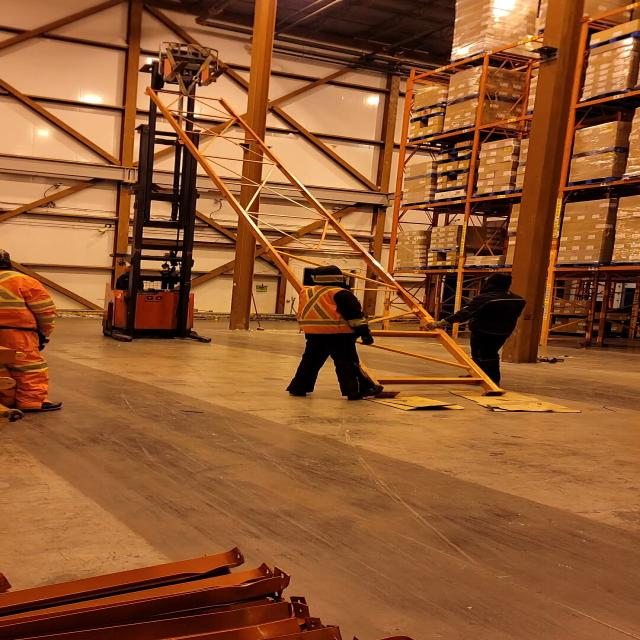forklift: (100, 185, 214, 344)
human: (280, 264, 393, 403), (417, 266, 530, 392), (0, 249, 70, 420)
objectofinterest: (142, 84, 515, 398), (445, 386, 584, 415), (343, 388, 471, 413)
